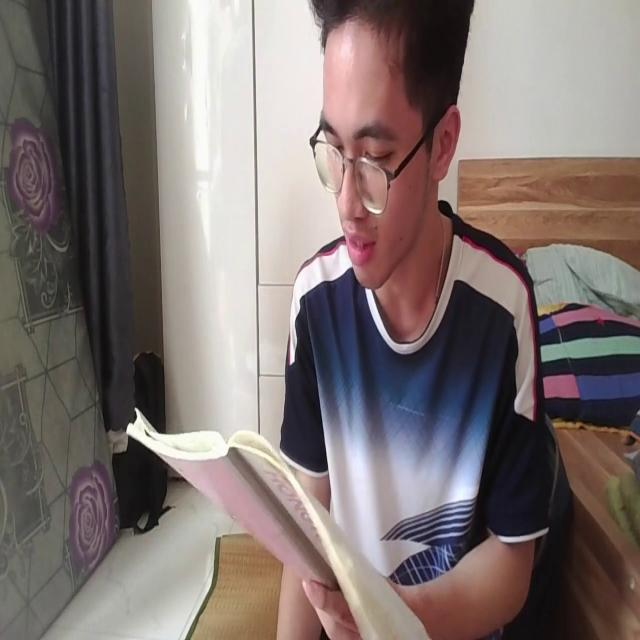book: (126, 406, 431, 640)
student: (275, 0, 541, 640)
